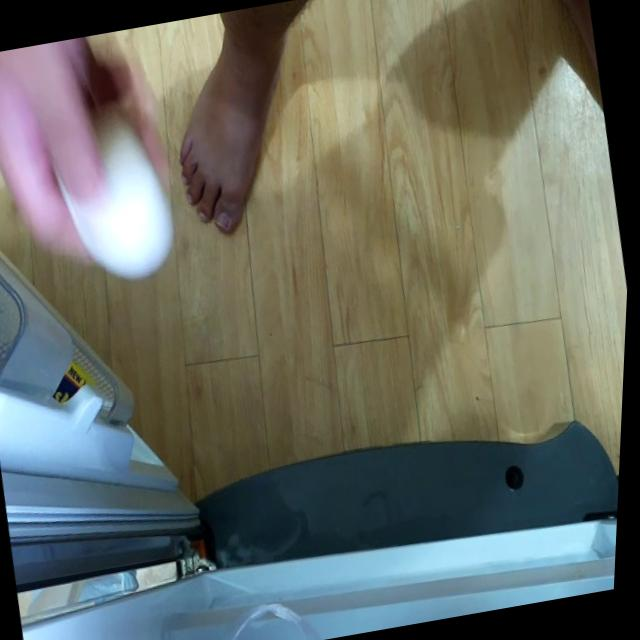egg: (51, 110, 185, 292)
